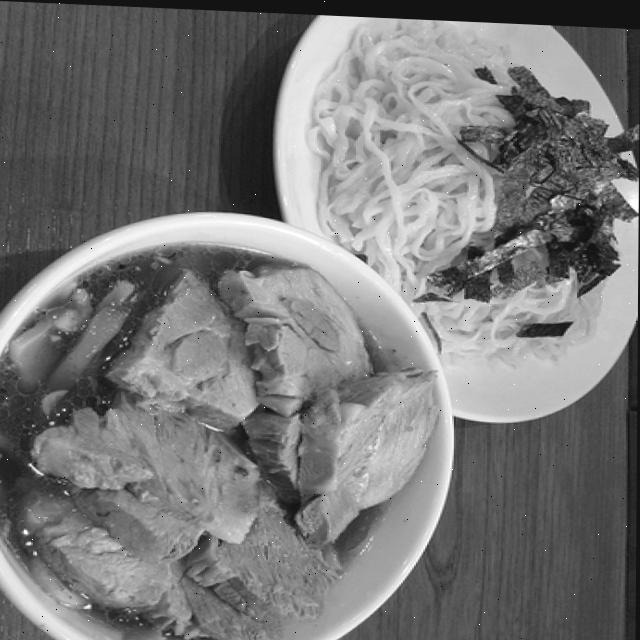面条主食: (0, 0, 632, 640)
